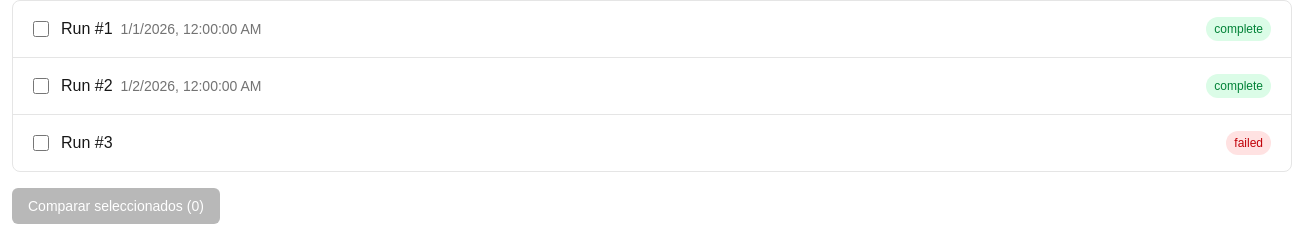
Scenario: RunSelector › un-selecting a run removes it from the comparison
Click the checkbox named "Seleccionar run 1": (41, 29) [33, 21, 49, 37]
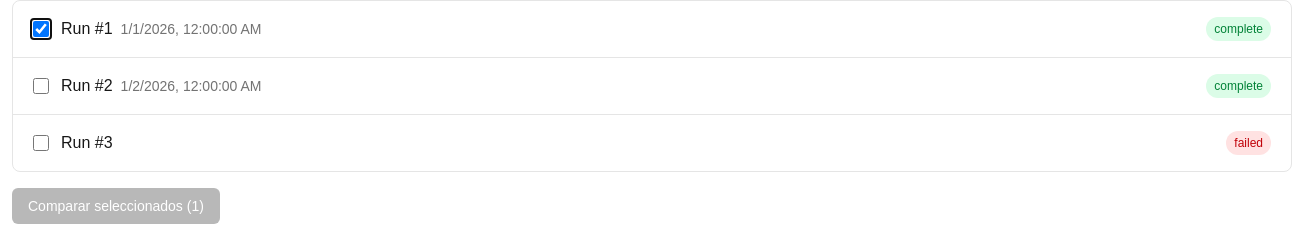
Click the checkbox named "Seleccionar run 2": (41, 86) [33, 78, 49, 94]
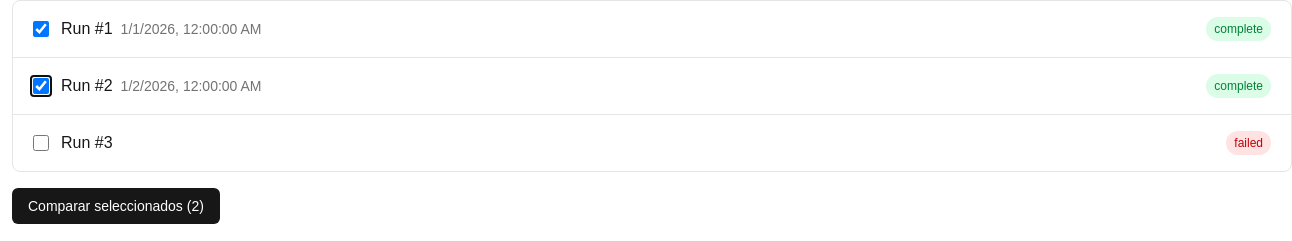
Click the checkbox named "Seleccionar run 1": (41, 29) [33, 21, 49, 37]
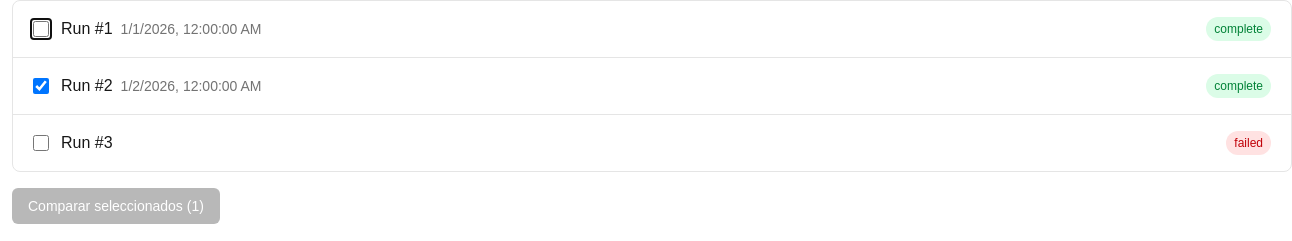
Expected: the button "Comparar seleccionados (1)" is disabled, [12, 188, 220, 224]
